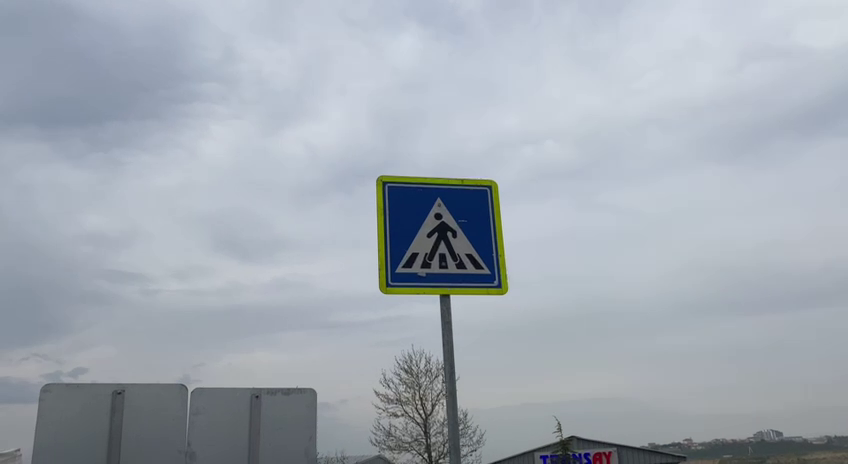pedestrianCrossing: (374, 172, 511, 299)
